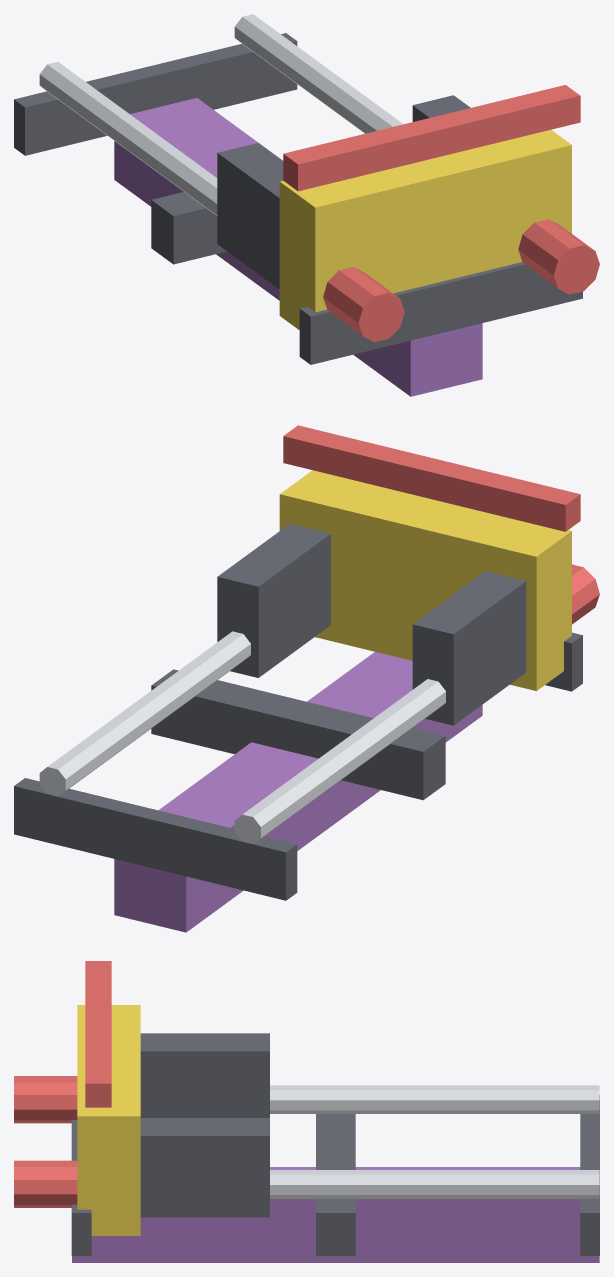
The model's file is theme-park-rides-and-coasters-theme-park-rides-and-coa-34b90868__28643.glb.
The picture shows the model from 3 angles, top to bottom: view 1: azimuth 30°, elevation 25°; view 2: azimuth 150°, elevation 25°; view 3: azimuth 270°, elevation 25°; orthographic projection. The views are drawn at different scales.
Parts seen in each view (by area): view 1: theme-park-rides-and-coasters-coaster-end-bumper; view 2: theme-park-rides-and-coasters-coaster-end-bumper; view 3: theme-park-rides-and-coasters-coaster-end-bumper.
Part boxes in pixels (x1,y1,x2,y2): theme-park-rides-and-coasters-coaster-end-bumper: [14, 14, 599, 396]; theme-park-rides-and-coasters-coaster-end-bumper: [14, 425, 599, 932]; theme-park-rides-and-coasters-coaster-end-bumper: [14, 961, 599, 1262].
Bounding box in the file's own units: 1.1 × 0.9401 × 2.22.
